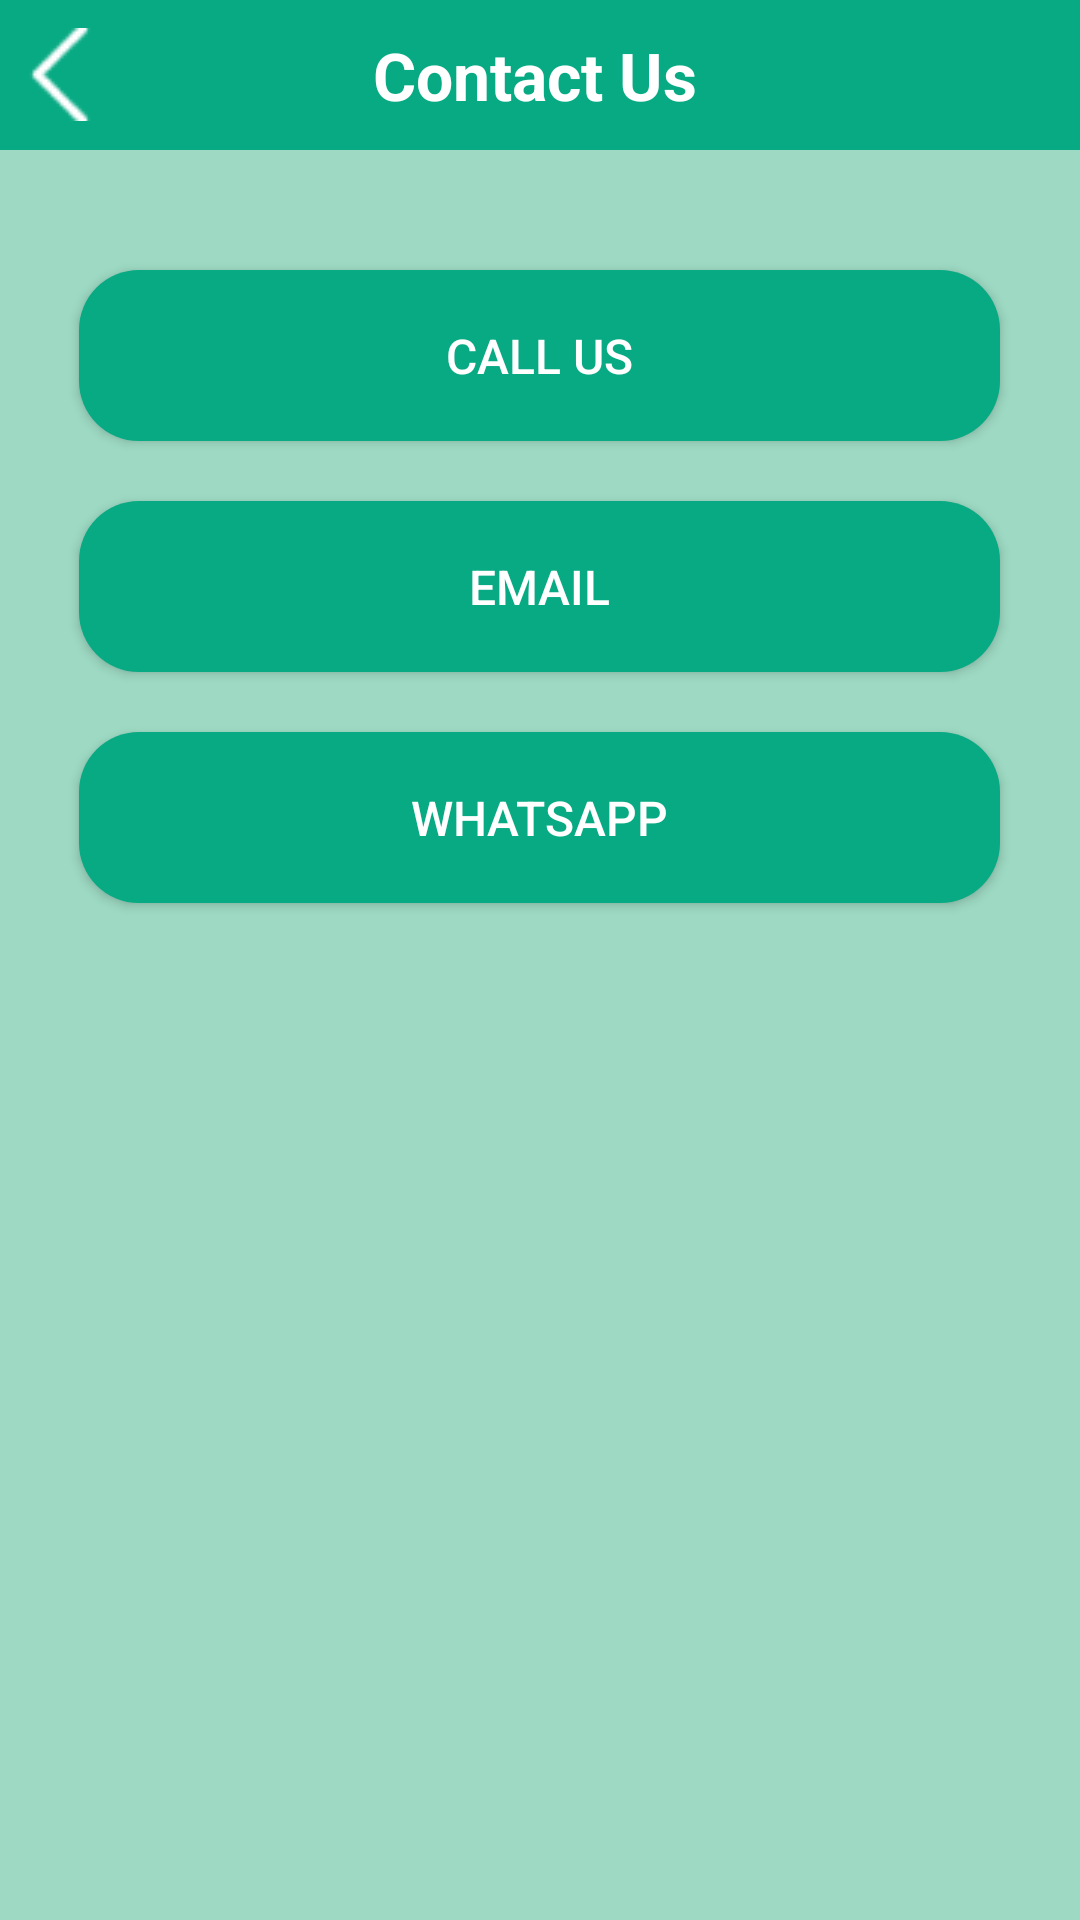

Named icons in this screenshot (1080×1920) and their centers, (x,y):
leftarrow: (60,74)
